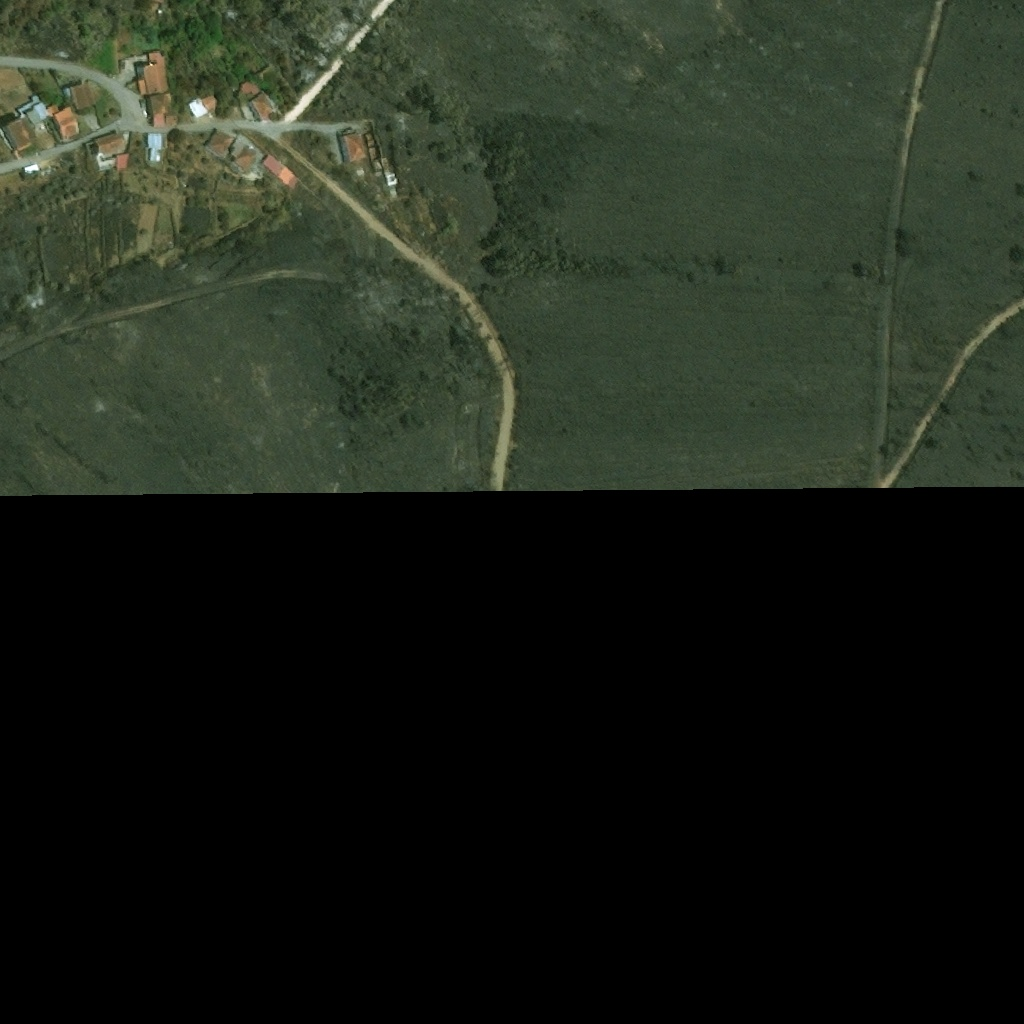0 no-damage: (123, 53, 172, 94), (262, 155, 301, 191), (4, 118, 42, 153), (48, 104, 83, 141), (17, 94, 50, 125), (149, 94, 179, 127), (229, 139, 259, 171), (70, 82, 101, 111), (205, 127, 234, 158), (93, 132, 127, 157), (339, 134, 367, 164), (251, 92, 278, 121), (190, 95, 222, 119), (147, 134, 162, 164), (239, 79, 260, 96), (117, 155, 131, 169)
3 destroyed: (365, 132, 385, 173), (383, 168, 400, 188)
